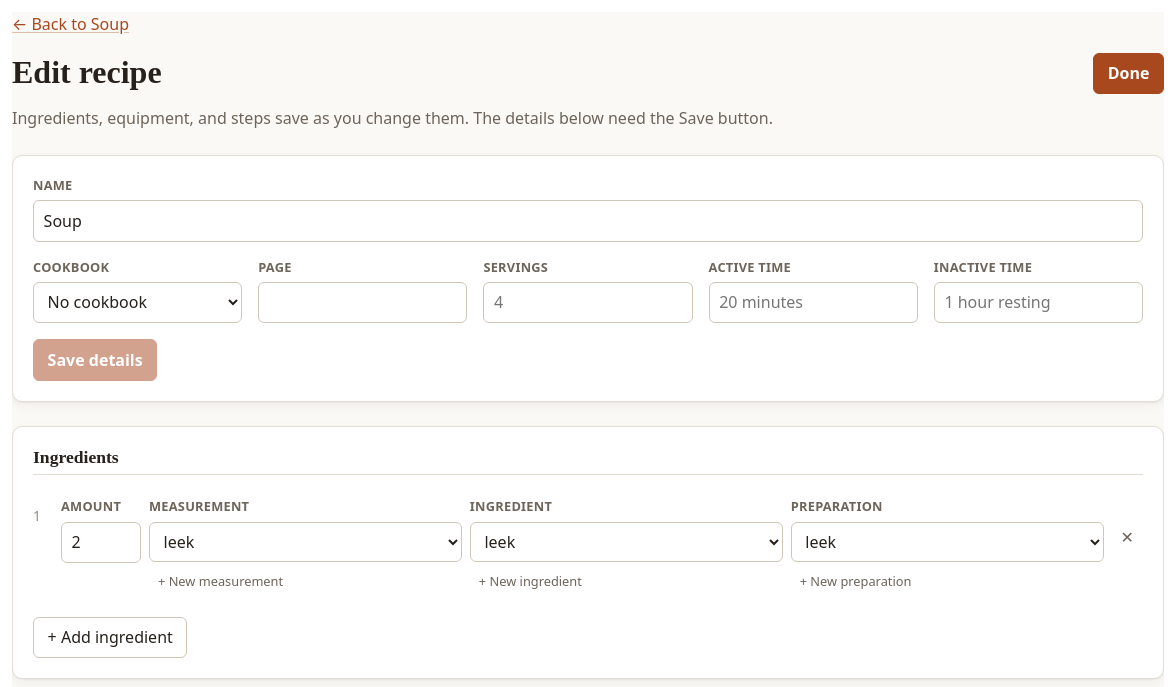
Test: ingredient editor when a save fails › shows the error and keeps the edited amount
In the number field labelled "Amount": (101, 543) [61,522,141,563], type "5"
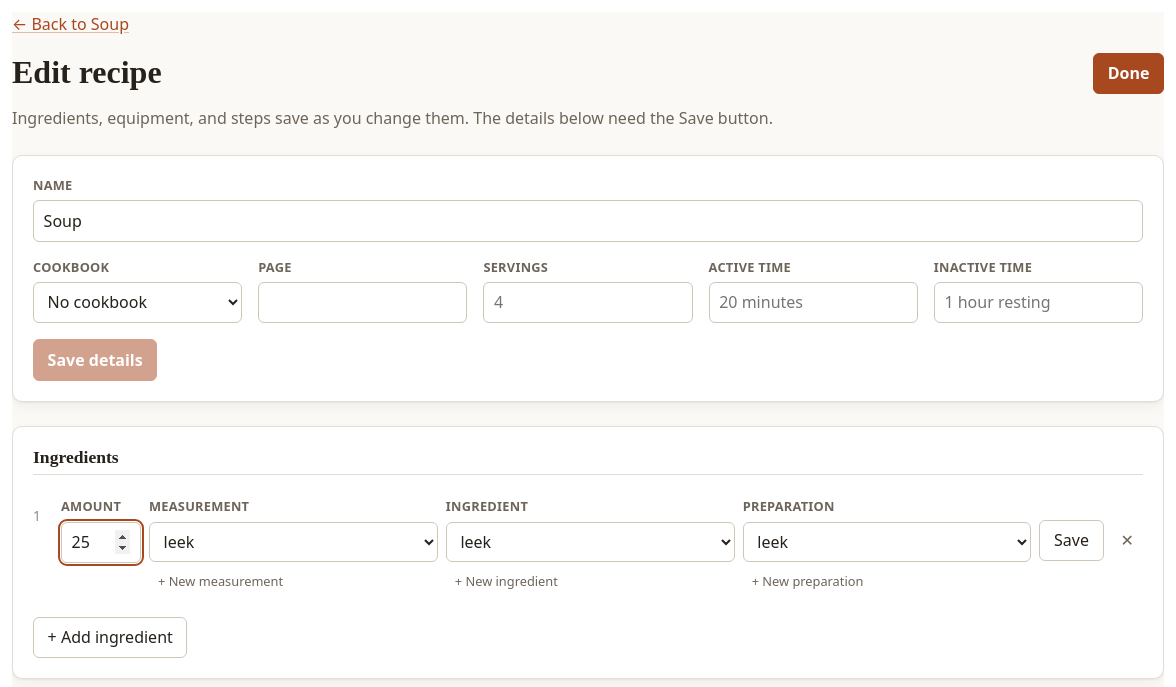
Click the button "Save": (1072, 540) [1040,520,1104,561]
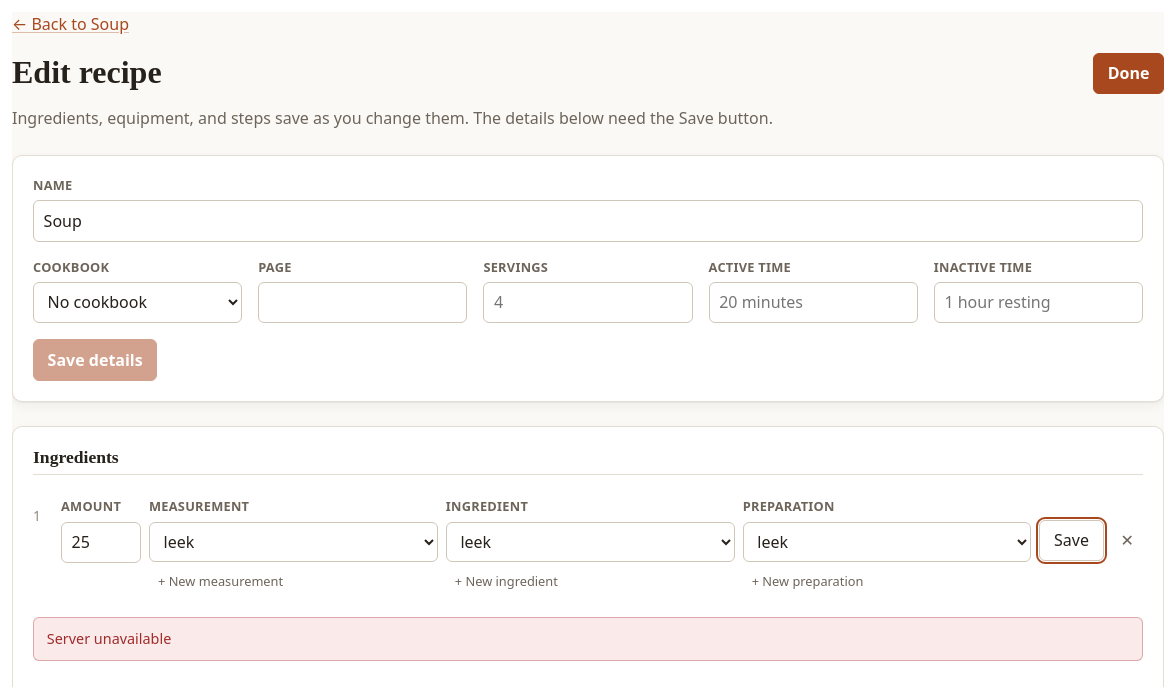
Check: the number field labelled "Amount" holds "25", box [61,522,141,563]
Check: the text "Server unavailable" is shown, box [33,617,1143,660]
